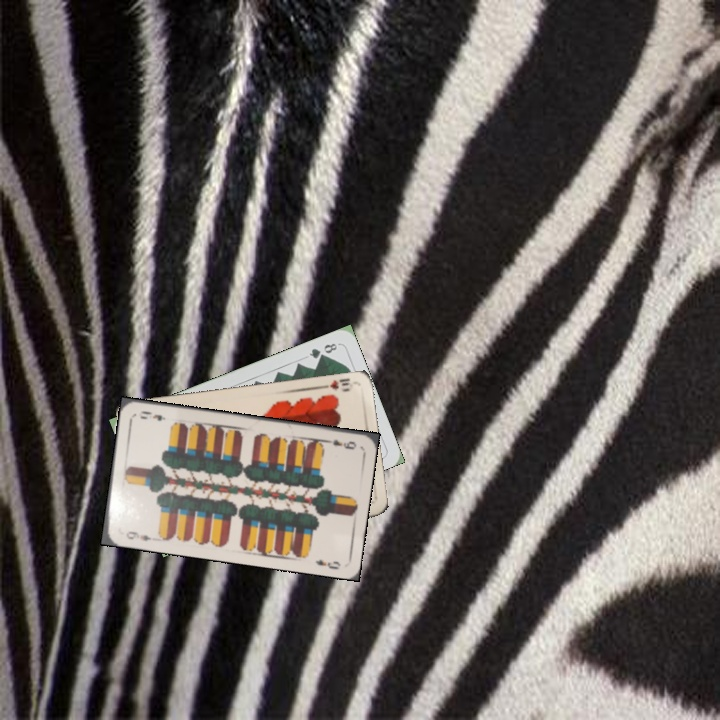E9: (321, 435, 359, 452), (122, 527, 154, 544)
G8: (305, 339, 340, 361)
H10: (316, 374, 353, 394)
